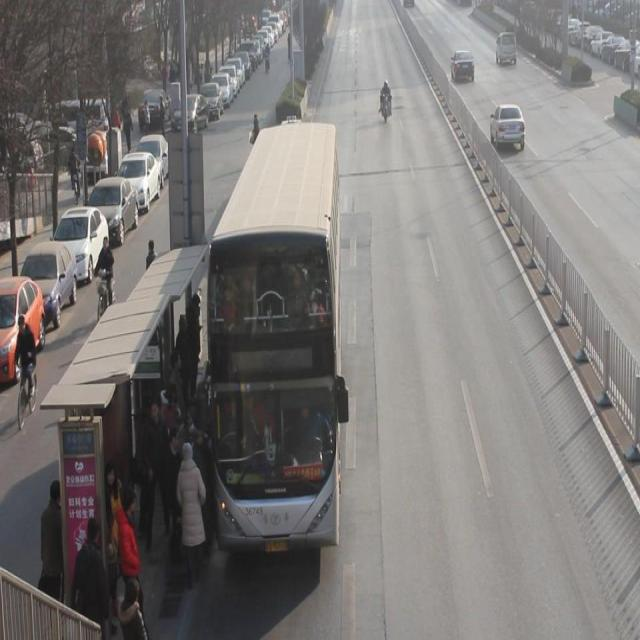car: (490, 103, 527, 151), (451, 49, 476, 83), (403, 1, 416, 8)
truck: (495, 31, 519, 67)
van: (205, 124, 342, 550)
